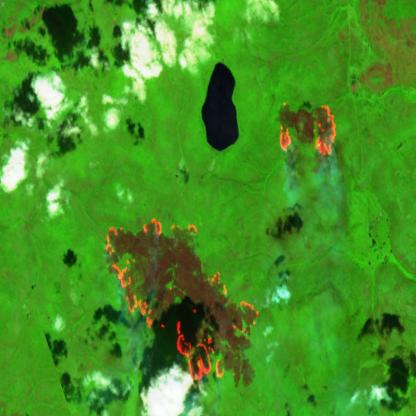fire: (99, 217, 264, 390), (274, 98, 342, 160)
